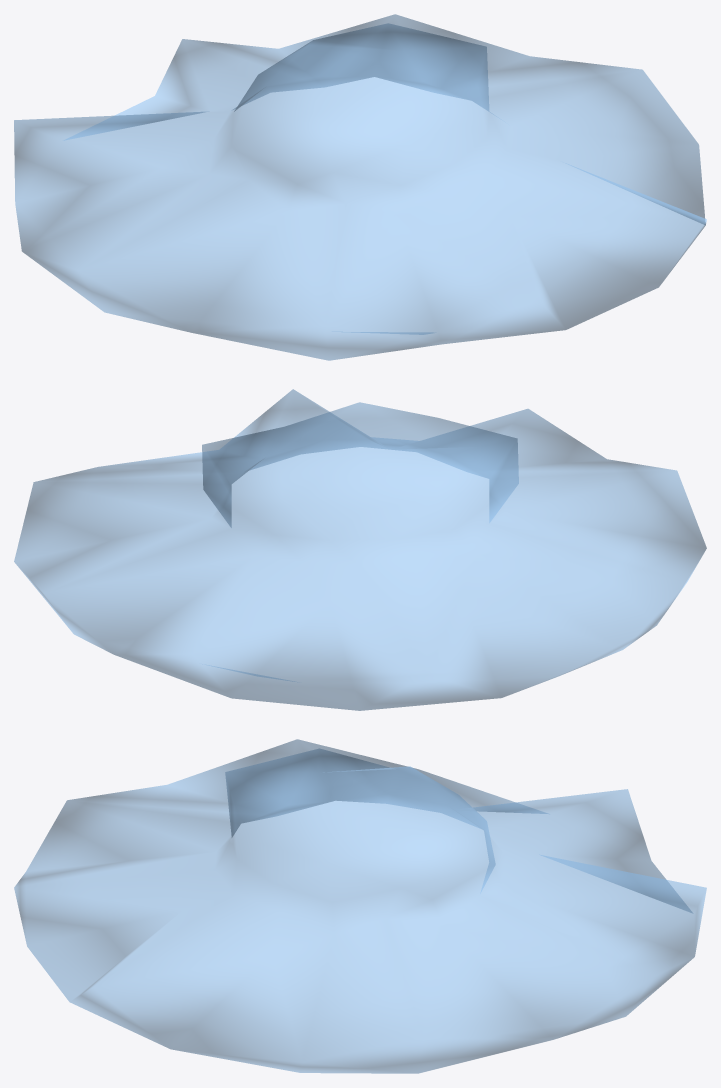
File: ssoracle_shield.gltf
3 renders of one model, top to bottom at view 1: azimuth 30°, elevation 25°; view 2: azimuth 150°, elevation 25°; view 3: azimuth 270°, elevation 25°, orthographic. The views are drawn at different scales.
Visible parts, largest first — view 1: ssoracle.shield; view 2: ssoracle.shield; view 3: ssoracle.shield.
Part boxes in pixels (x1,y1,x2,y2): ssoracle.shield: [14, 14, 706, 360]; ssoracle.shield: [14, 389, 706, 710]; ssoracle.shield: [14, 739, 706, 1073].
Bounding box in the file's own units: 7.3 × 2.59 × 7.15.
